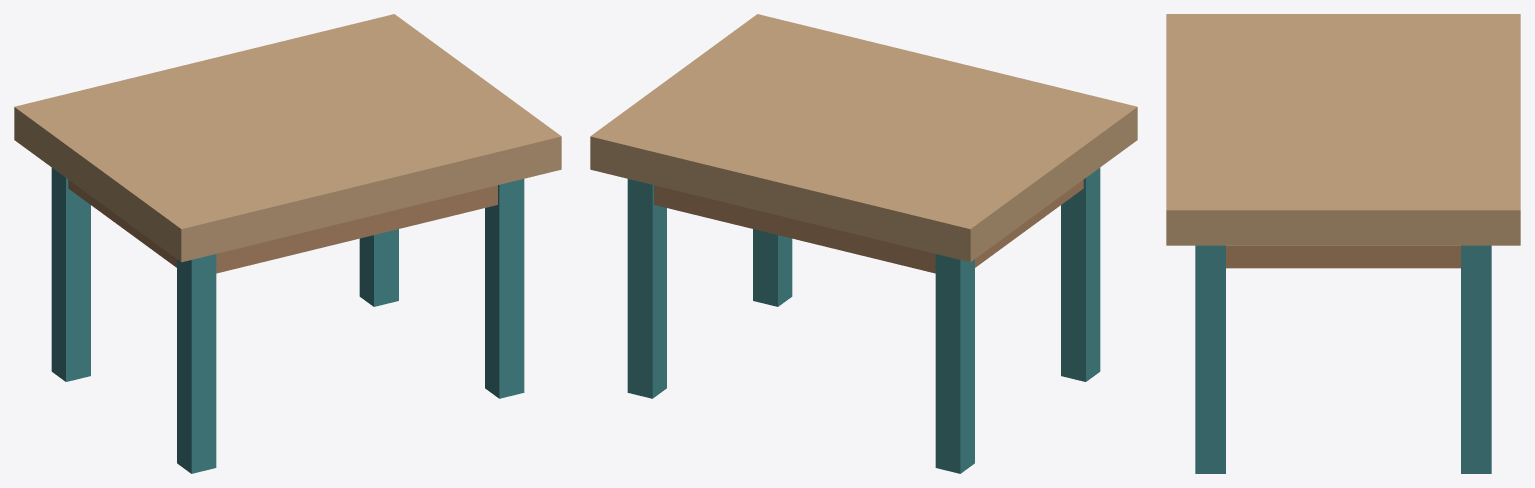
Rendered from meja-mini.glb.
3 renders of one model, left to right at view 1: azimuth 30°, elevation 25°; view 2: azimuth 150°, elevation 25°; view 3: azimuth 270°, elevation 25°, orthographic. The views are drawn at different scales.
Visible parts, largest first — view 1: Meja mini; view 2: Meja mini; view 3: Meja mini.
Part boxes in pixels (x1=…): Meja mini: x1=14, y1=14, x2=561, y2=473; Meja mini: x1=590, y1=14, x2=1137, y2=473; Meja mini: x1=1166, y1=14, x2=1520, y2=473.
Size of the model in its own units: 0.84 by 0.55 by 0.64.
